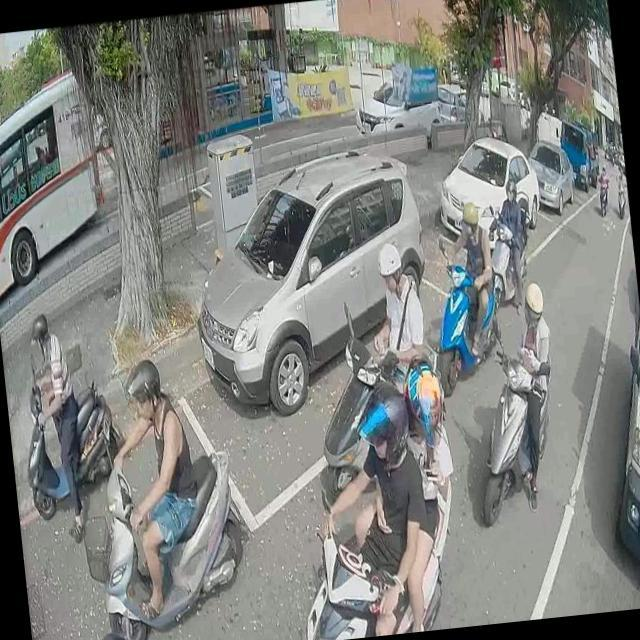person: (290, 368, 437, 640), (338, 360, 468, 634), (98, 348, 210, 628), (15, 313, 94, 532), (496, 272, 564, 512), (360, 238, 428, 394), (439, 188, 499, 360), (494, 176, 538, 310), (92, 618, 140, 640), (615, 164, 627, 192), (596, 164, 609, 187)
